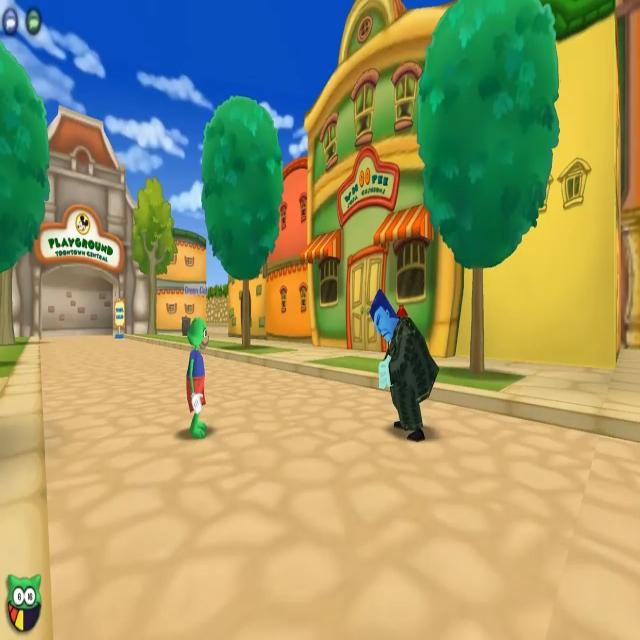shortchange: (369, 270, 439, 447)
